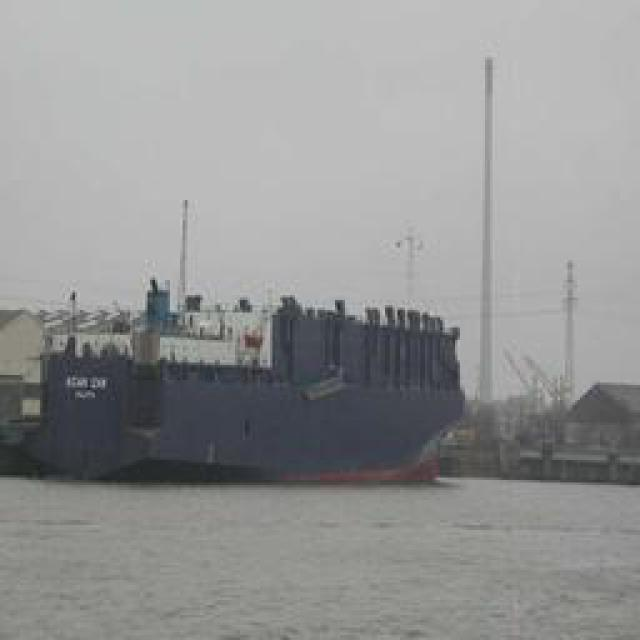Ship: (14, 271, 464, 486)
